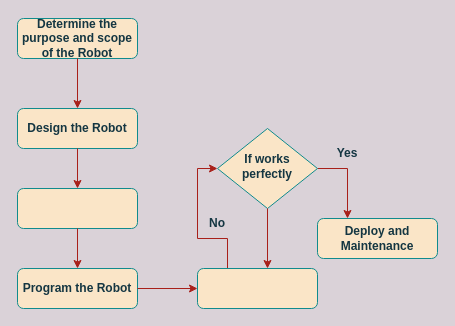
The diagram is 455 pixels wide and 326 high, and some of its shapes have lost their labels. The shapes that lost their labels are listed below. From the top down, each one's box as (x1, y1, x2, y2) in pixels, then its label:
(16, 188, 138, 228): Build the Robot with necessary elements
(196, 268, 318, 308): Test and Refine
